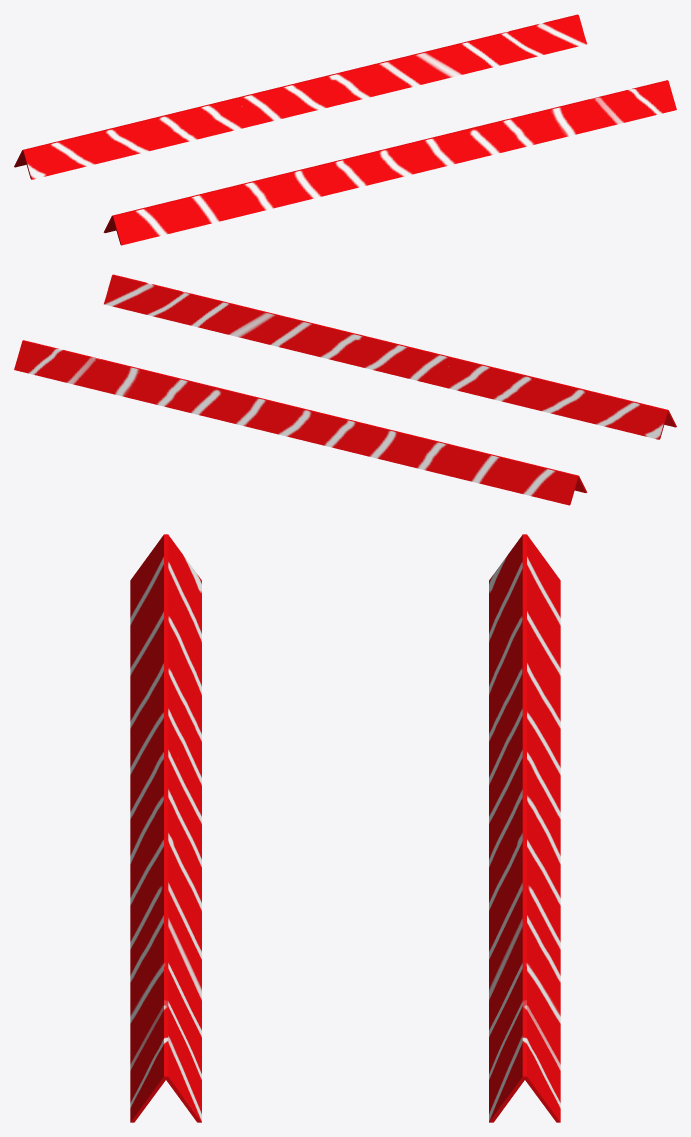
The model's file is adboard.fbx.
3 views of the same model, one above another, from view 1: azimuth 30°, elevation 25°; view 2: azimuth 150°, elevation 25°; view 3: azimuth 270°, elevation 25° (orthographic). The views are drawn at different scales.
Parts seen in each view (by area): view 1: Cube.001, Cube.002; view 2: Cube.002, Cube.001; view 3: Cube.001, Cube.002.
Boxes of the visible parts, bbox=[...] form: Cube.001: bbox=[14, 14, 586, 179]; Cube.002: bbox=[103, 80, 676, 245]; Cube.002: bbox=[104, 274, 676, 439]; Cube.001: bbox=[14, 340, 587, 505]; Cube.001: bbox=[489, 534, 560, 1122]; Cube.002: bbox=[130, 534, 201, 1122].
Size of the model in its own units: 1591 by 62.85 by 533.
Materials: 1 (1 with a texture image).
